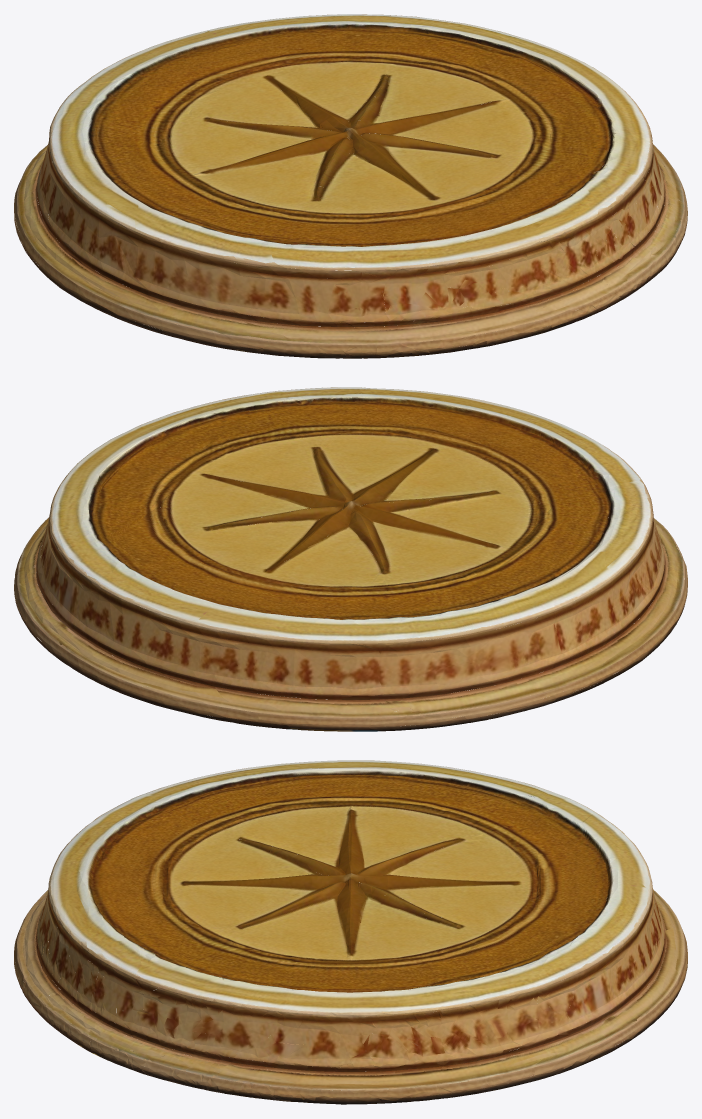
File: warpPad1.glb
3 views of the same model, one above another, from view 1: azimuth 30°, elevation 25°; view 2: azimuth 150°, elevation 25°; view 3: azimuth 270°, elevation 25° (orthographic).
Visible parts, largest first — view 1: geometry_0; view 2: geometry_0; view 3: geometry_0.
Part boxes in pixels (bbox=[...]): geometry_0: bbox=[14, 14, 687, 358]; geometry_0: bbox=[14, 387, 687, 731]; geometry_0: bbox=[14, 760, 687, 1104].
Size of the model in its own units: 1.99 by 0.2929 by 1.99.
Materials: 1 (1 with a texture image).
